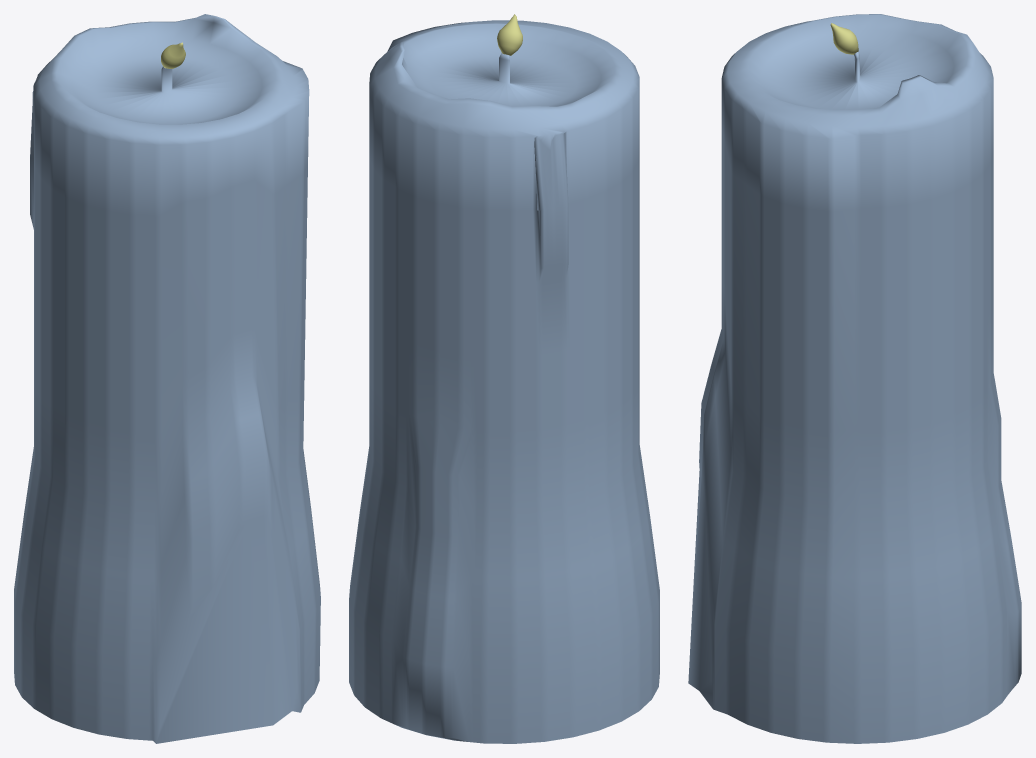
File: candle.fbx
3 views of the same model, side by side, from view 1: azimuth 30°, elevation 25°; view 2: azimuth 150°, elevation 25°; view 3: azimuth 270°, elevation 25° (orthographic). The views are drawn at different scales.
Parts seen in each view (by area): view 1: Cylinder; view 2: Cylinder; view 3: Cylinder.
Boxes of the visible parts, x1,y1,x2,y2 form: Cylinder: (14,14,320,743); Cylinder: (349,14,659,743); Cylinder: (688,14,1021,743).
Bounding box in the file's own units: 166 × 386 × 177.
